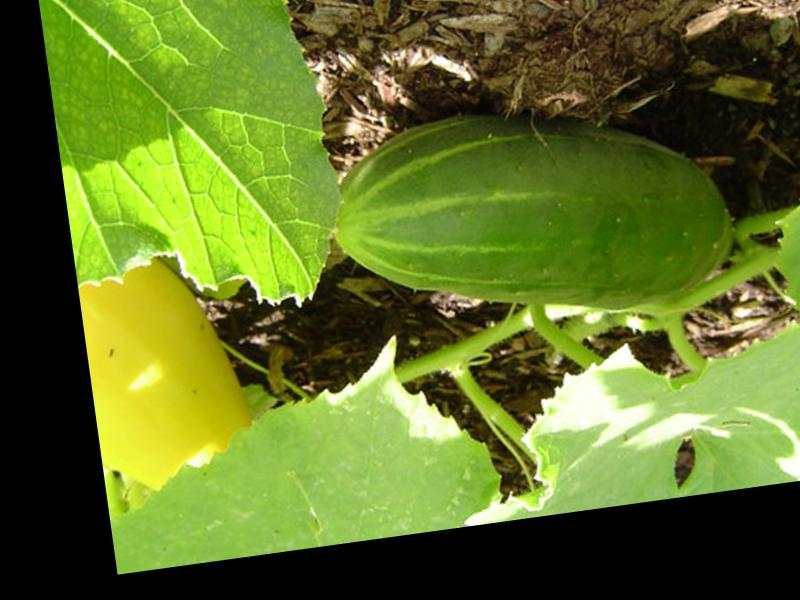Cucumber: (319, 78, 743, 348)
